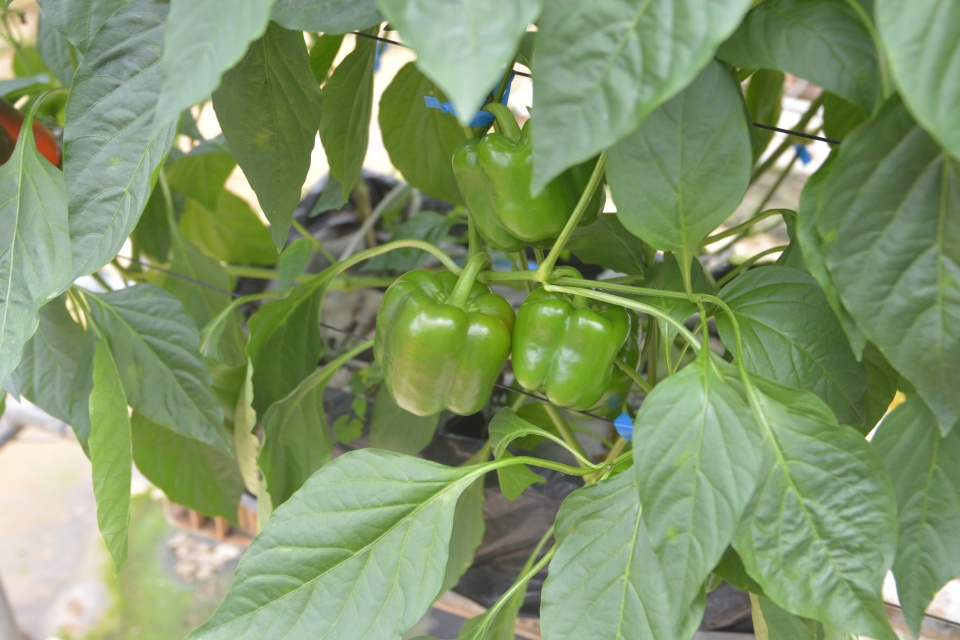fruit: (371, 268, 516, 419), (450, 116, 607, 254), (509, 285, 632, 413), (563, 307, 643, 422), (0, 99, 60, 169)
pedicle: (431, 288, 479, 312), (561, 293, 603, 312)
